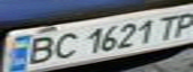1: (133, 16, 163, 45), (81, 24, 106, 55)
2: (118, 18, 142, 50)
6: (100, 20, 124, 53)
B: (18, 33, 63, 66)
C: (48, 29, 81, 61)
P: (166, 7, 193, 38)
T: (151, 11, 187, 40)
